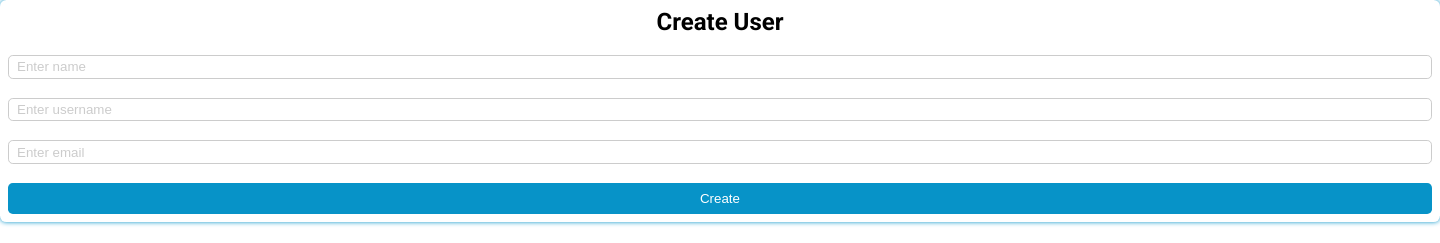
Test: UserForm › отображает сообщение об ошибке для незаполненных полей
Click the button "Create".
click(720, 198)  # box [8,183,1432,214]
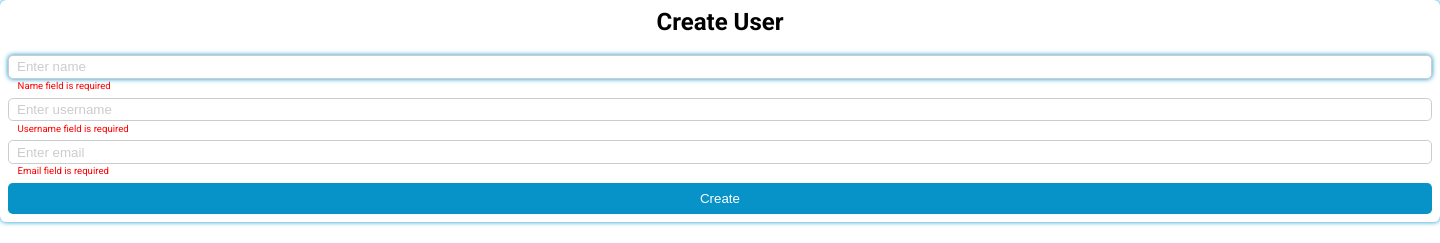
Result: the text "Name field is required" is shown at [18,80,111,91]
Result: the text "Username field is required" is shown at [18,123,129,134]
Result: the text "Email field is required" is shown at [18,166,109,176]
